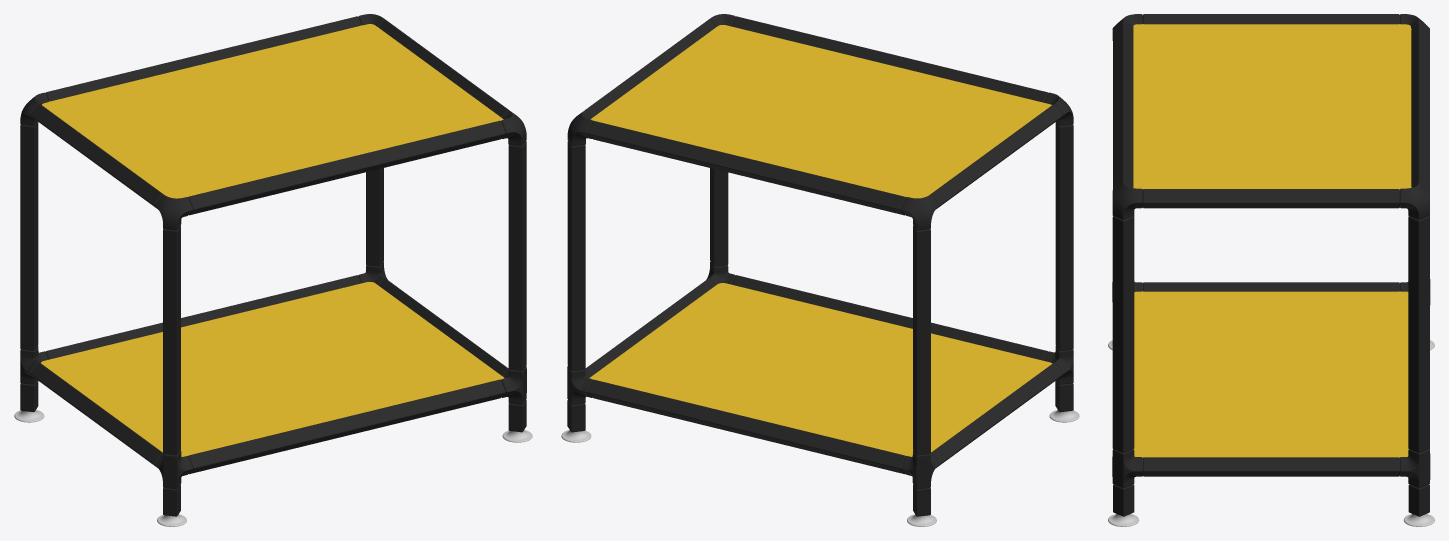
3 views of the same model, side by side, from view 1: azimuth 30°, elevation 25°; view 2: azimuth 150°, elevation 25°; view 3: azimuth 270°, elevation 25° (orthographic). The views are drawn at different scales.
Parts seen in each view (by area): view 1: 479x329x329; view 2: 479x329x329; view 3: 479x329x329.
Part boxes in pixels (bbox=[...]): 479x329x329: bbox=[14, 14, 532, 526]; 479x329x329: bbox=[561, 14, 1079, 526]; 479x329x329: bbox=[1108, 14, 1434, 526].
Bounding box in the file's own units: 0.5689 × 0.4683 × 0.4182.
